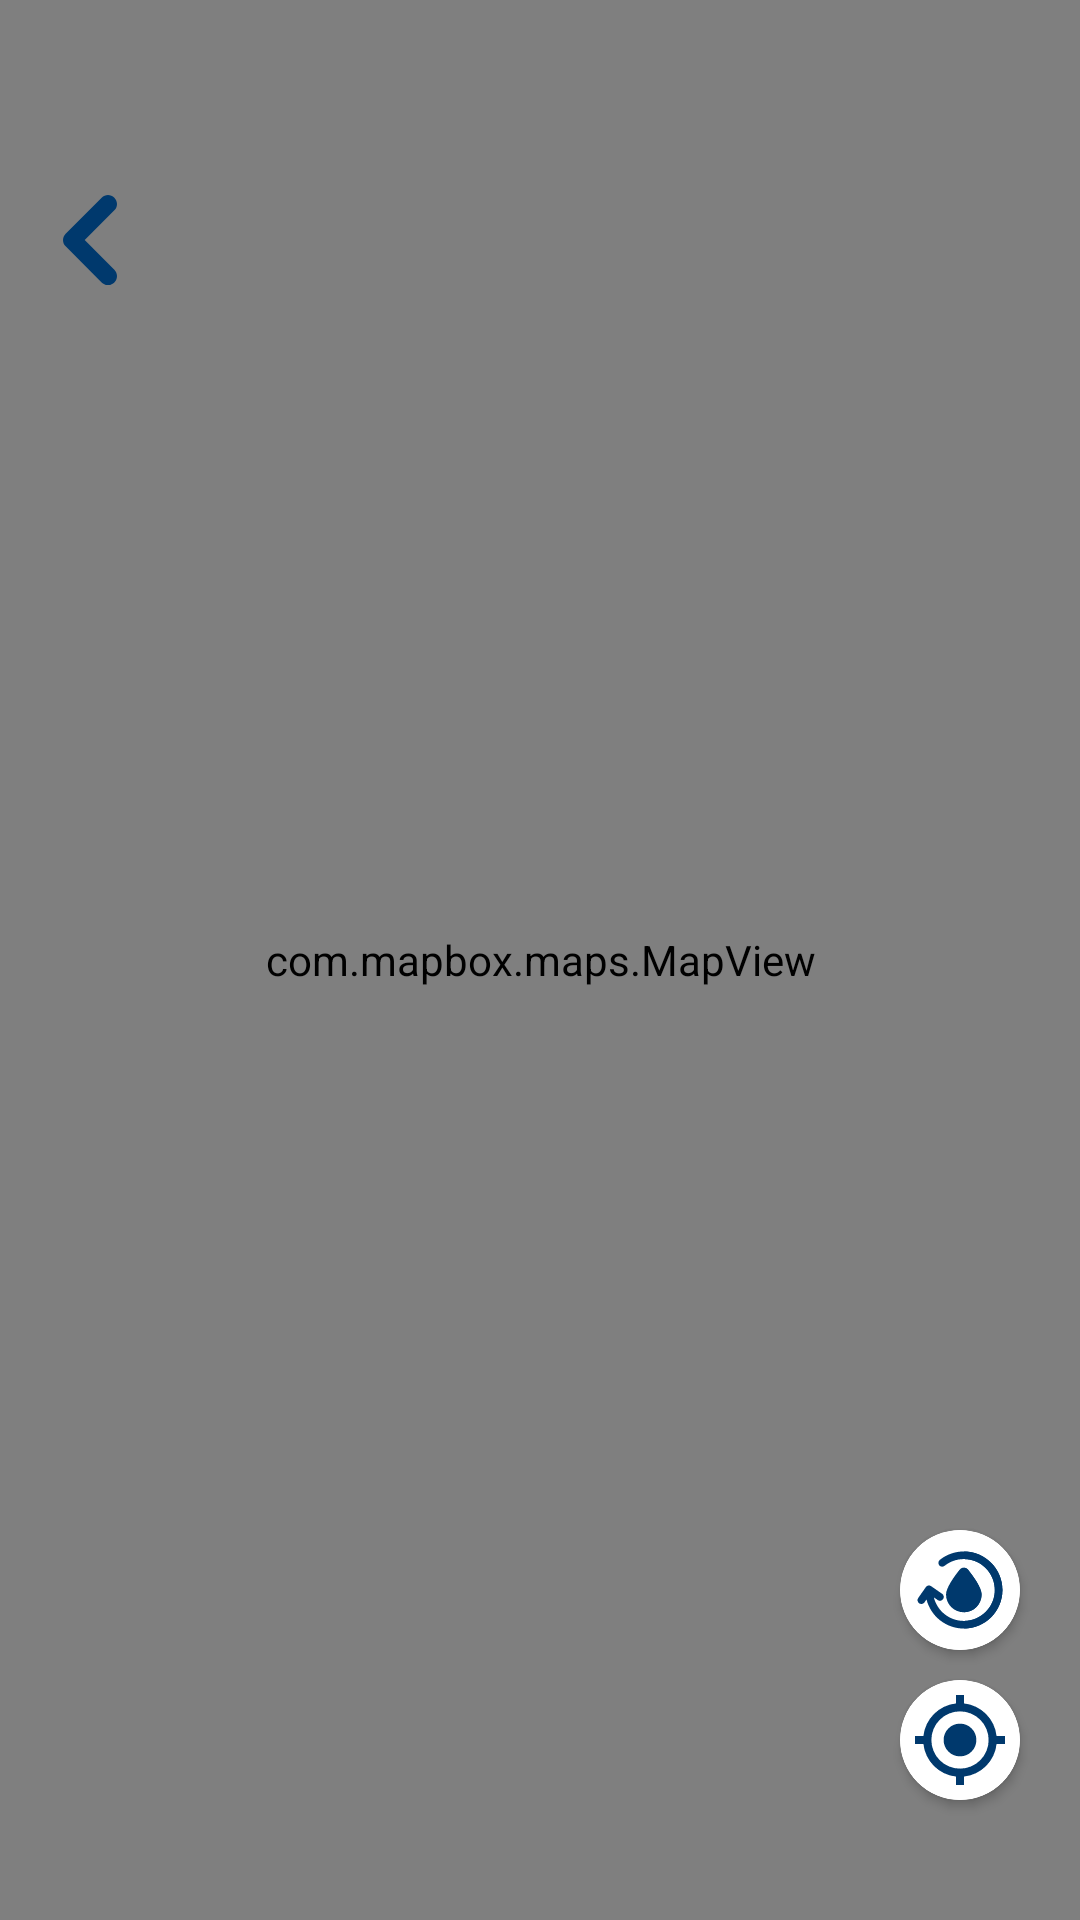

Icons on this 1080 x 1920 Android screen, each with the point to tap as (x,y):
liquid: (960,1590)
location: (960,1740)
previousonly: (90,240)
